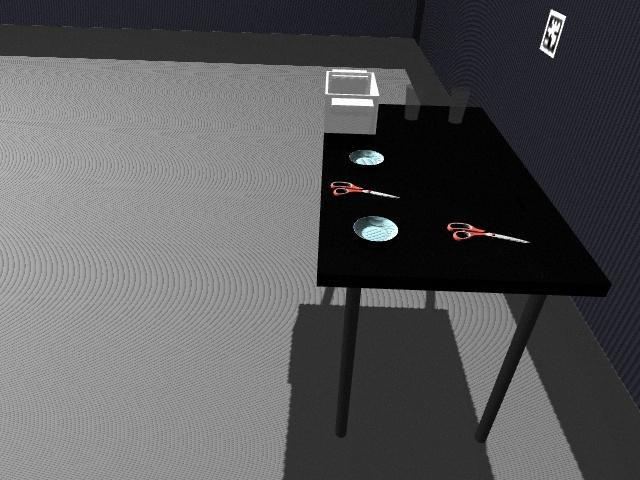cup: (448, 87, 471, 125), (404, 85, 421, 121)
plate: (352, 214, 401, 243), (348, 149, 386, 166)
scissors: (447, 220, 529, 244), (330, 181, 399, 200)
